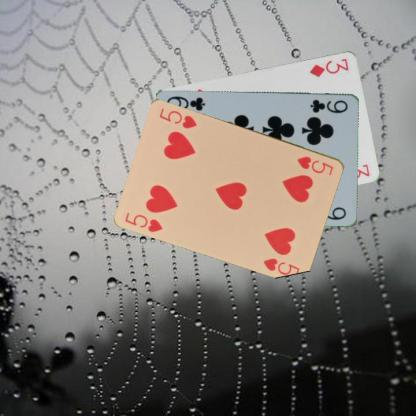3d: (307, 55, 350, 78)
5h: (123, 209, 164, 234), (295, 153, 335, 177)
9c: (308, 96, 350, 114)
